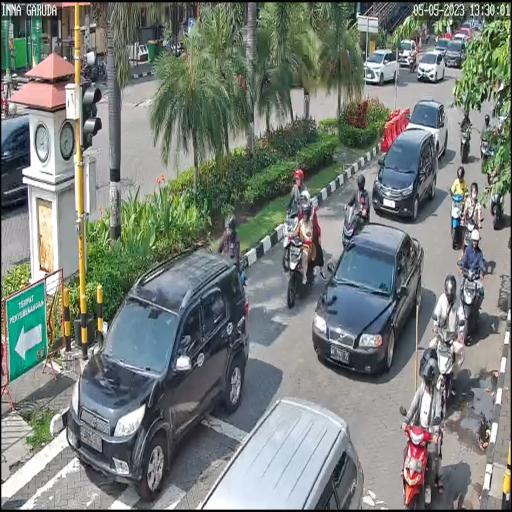mobil: (62, 243, 255, 500), (309, 218, 426, 384), (372, 130, 439, 224), (408, 98, 448, 155)
motor: (398, 403, 442, 509), (428, 320, 466, 408), (456, 255, 486, 351), (286, 232, 318, 314), (339, 196, 366, 254), (278, 204, 298, 276), (447, 187, 466, 252)
